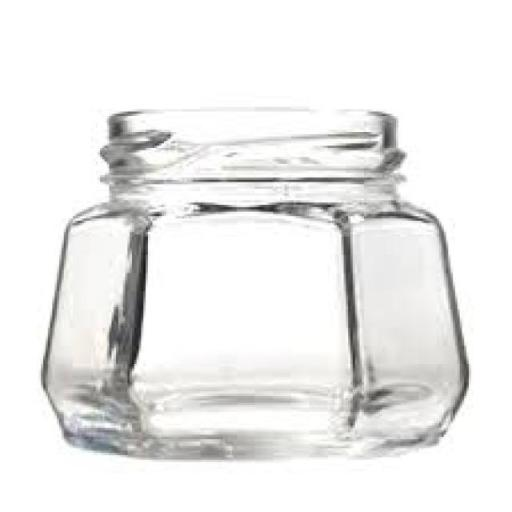glass: (20, 93, 488, 475)
